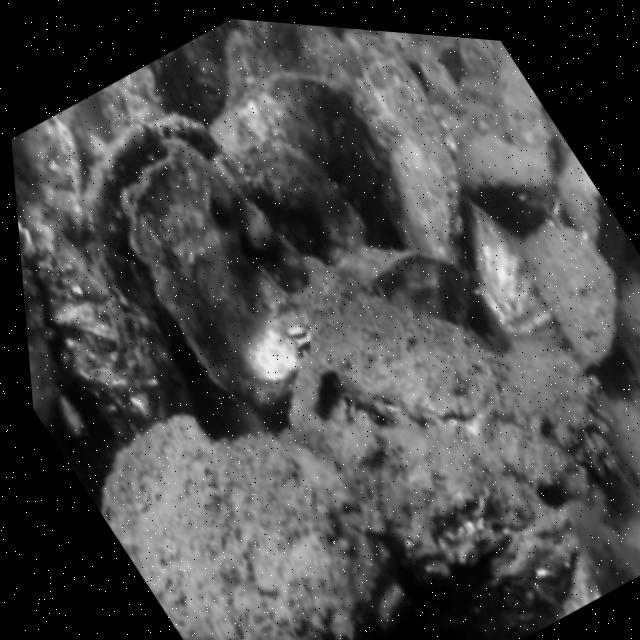Oyster-Indeterminate: (98, 420, 585, 640), (125, 152, 309, 407), (18, 209, 192, 447), (324, 293, 594, 435), (208, 81, 384, 263), (77, 115, 213, 323), (371, 68, 463, 271), (472, 197, 569, 346), (521, 225, 619, 364), (11, 115, 83, 229), (375, 253, 477, 326), (20, 248, 55, 429), (454, 134, 555, 188), (496, 63, 554, 157), (558, 156, 602, 241)
